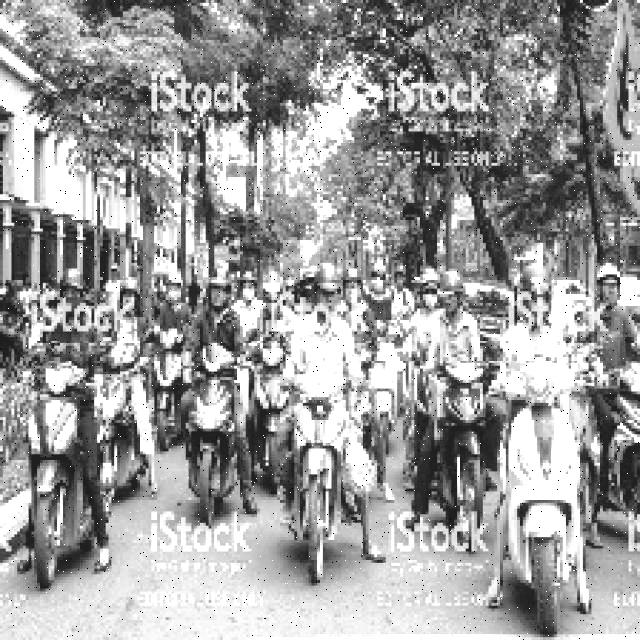Bike: (492, 363, 587, 627), (271, 367, 353, 571), (409, 352, 491, 537), (24, 367, 89, 579), (197, 326, 242, 500), (136, 322, 186, 462)
